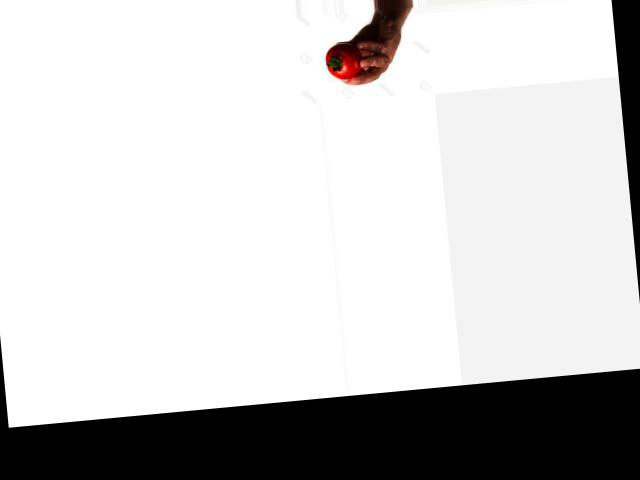tomato: (324, 41, 363, 80)
